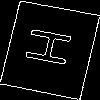H: (25, 25, 83, 70)
